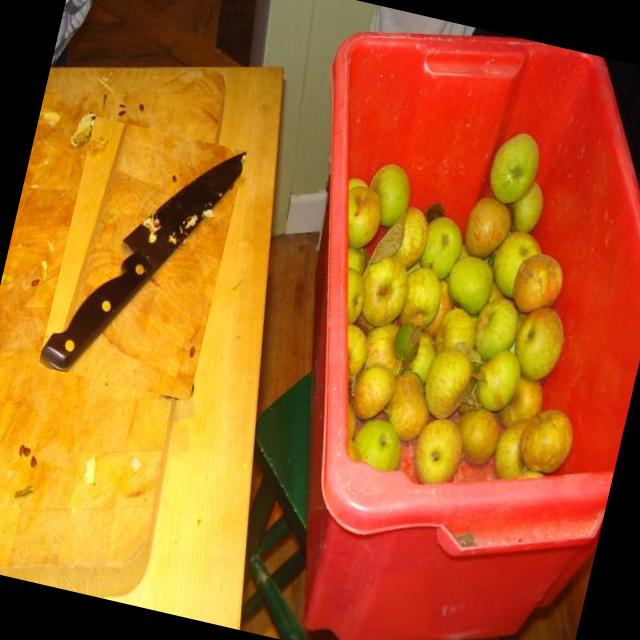Knife: (42, 152, 246, 371)
